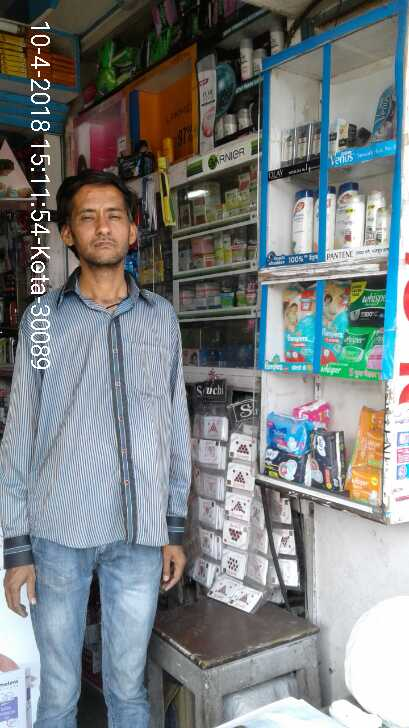venus: (368, 82, 399, 137)
